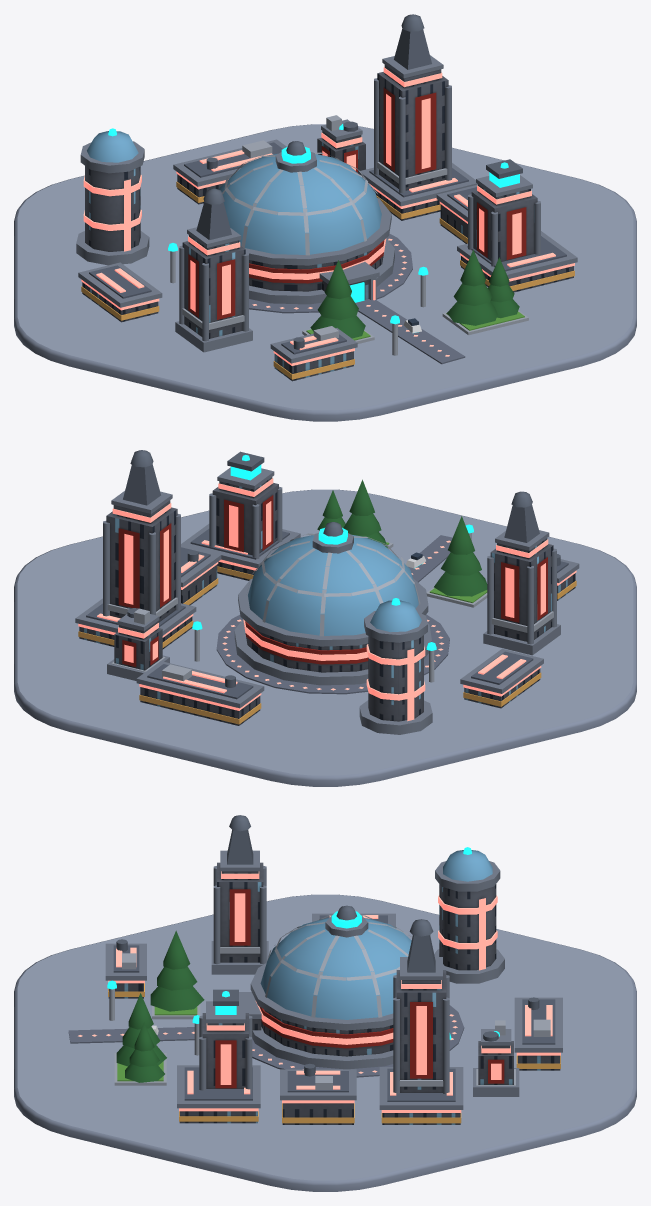
Rendered from district_scifi_b_red.glb.
3 views of the same model, one above another, from view 1: azimuth 30°, elevation 25°; view 2: azimuth 150°, elevation 25°; view 3: azimuth 270°, elevation 25° (orthographic).
Visible parts, largest first — view 1: district_scifi_b_red; view 2: district_scifi_b_red; view 3: district_scifi_b_red.
Boxes of the visible parts, <box> form: district_scifi_b_red: <box>14,14,636,421</box>; district_scifi_b_red: <box>14,450,636,786</box>; district_scifi_b_red: <box>14,815,636,1191</box>.
Size of the model in its own units: 1.92 by 0.6033 by 1.75.
Materials: 3 (1 with a texture image).
